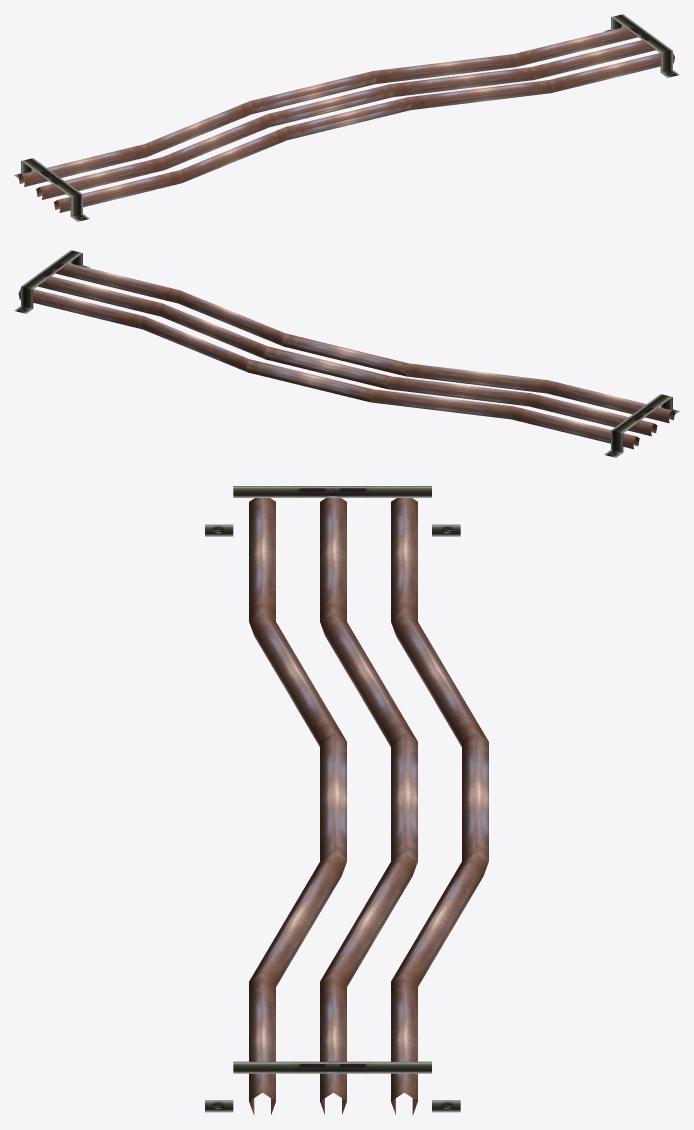
File: ceiling_pipe_span_var1.fbx
3 views of the same model, one above another, from view 1: azimuth 30°, elevation 25°; view 2: azimuth 150°, elevation 25°; view 3: azimuth 270°, elevation 25° (orthographic). The views are drawn at different scales.
Visible parts, largest first — view 1: mesh_0; view 2: mesh_0; view 3: mesh_0.
Boxes of the visible parts, bbox=[...] form: mesh_0: bbox=[14, 14, 679, 221]; mesh_0: bbox=[14, 250, 679, 457]; mesh_0: bbox=[205, 486, 488, 1115].
Bounding box in the file's own units: 200 × 6 × 40.
Materials: 1 (1 with a texture image).
